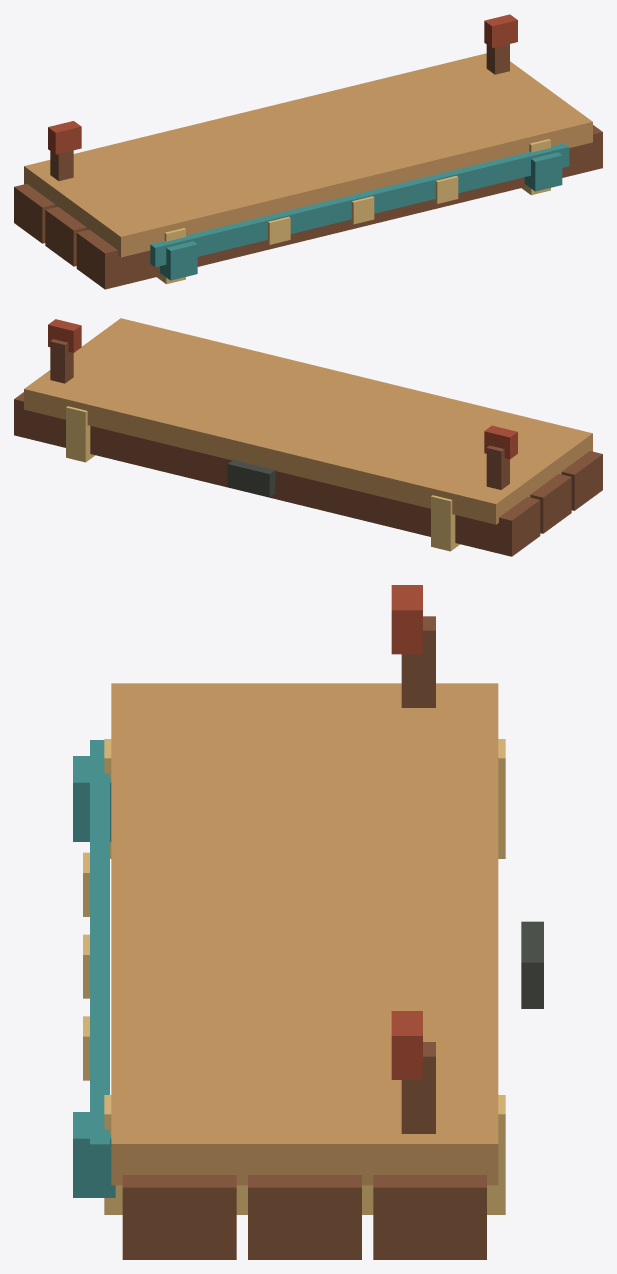
Rendered from natlan-trial-raft-model.obj.
The picture shows the model from 3 angles, top to bottom: view 1: azimuth 30°, elevation 25°; view 2: azimuth 150°, elevation 25°; view 3: azimuth 270°, elevation 25°; orthographic projection. The views are drawn at different scales.
Visible parts, largest first — view 1: NatlanTrialRaft; view 2: NatlanTrialRaft; view 3: NatlanTrialRaft.
Boxes of the visible parts, left/top/right/bottom form: NatlanTrialRaft: left=14, top=14, right=602, bottom=289; NatlanTrialRaft: left=14, top=318, right=602, bottom=556; NatlanTrialRaft: left=73, top=585, right=543, bottom=1259.
Bounding box in the file's own units: 4.04 × 0.84 × 1.65.
